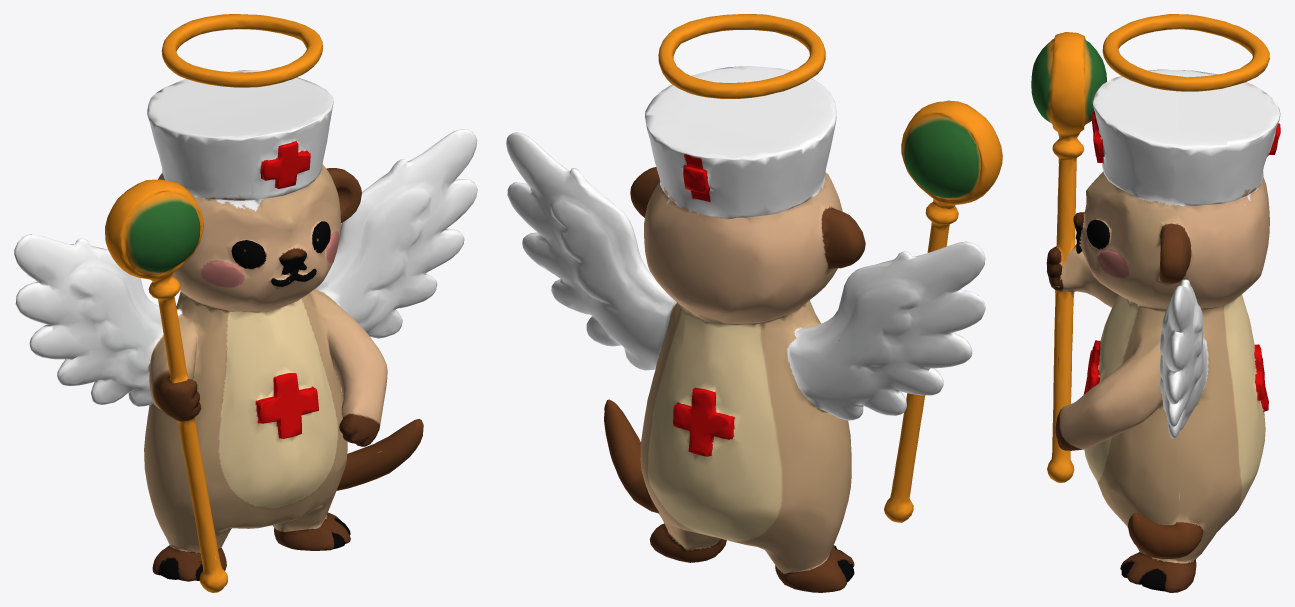
The model's file is meercat-web.glb.
3 renders of one model, left to right at view 1: azimuth 30°, elevation 25°; view 2: azimuth 150°, elevation 25°; view 3: azimuth 270°, elevation 25°, orthographic. The views are drawn at different scales.
Size of the model in its own units: 0.923 by 0.969 by 0.4328.
Materials: 1 (1 with a texture image).
